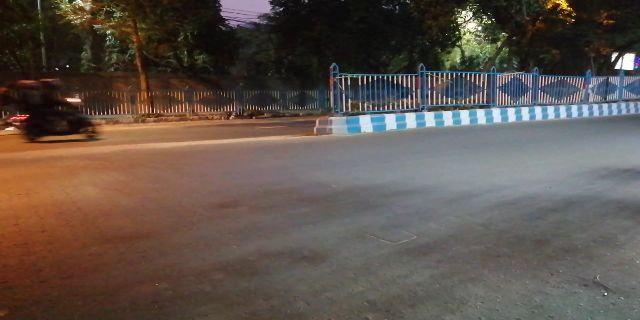Motorbike: (12, 78, 106, 145)
